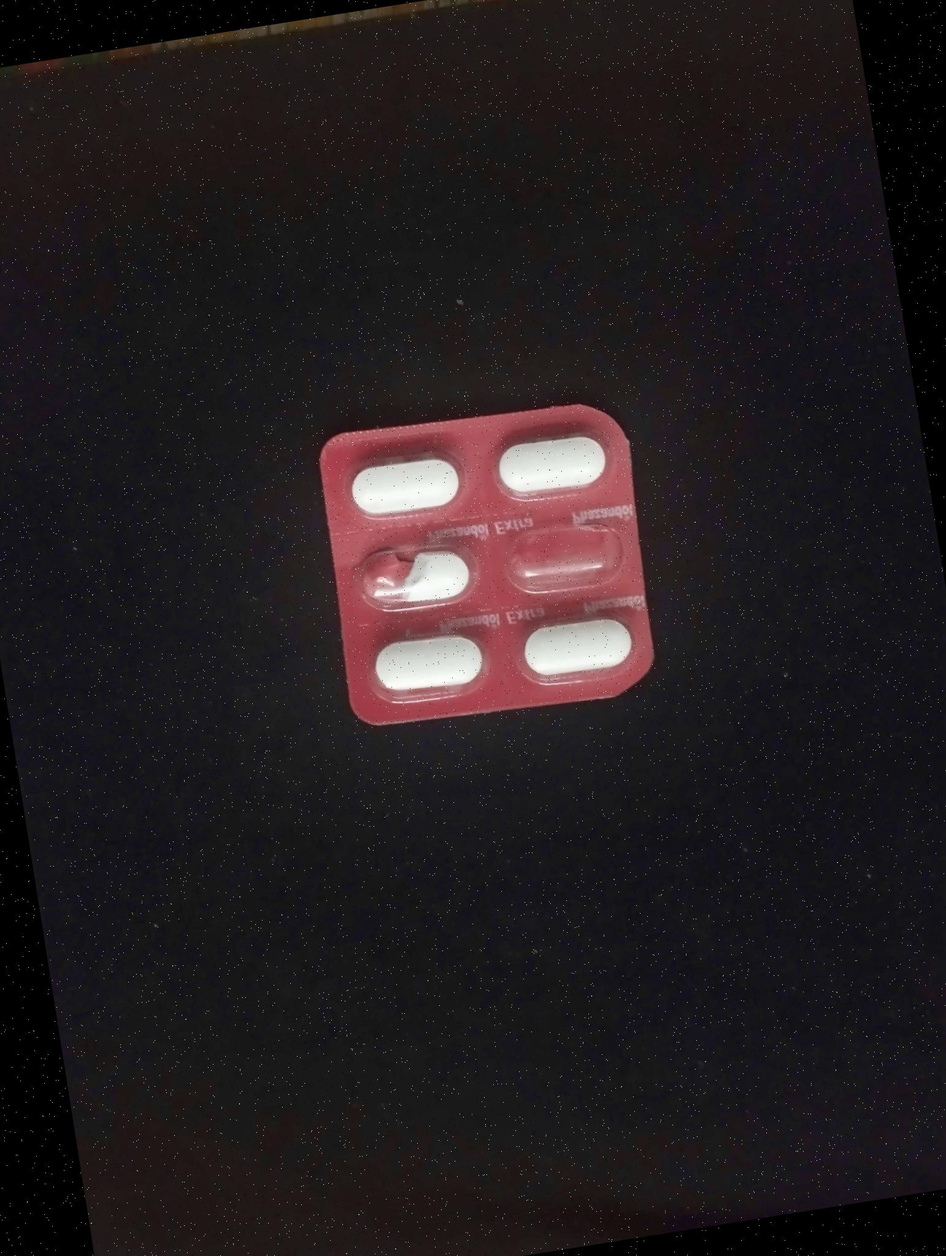Empty: (506, 510, 642, 599)
Full: (507, 597, 658, 687), (478, 414, 621, 508), (335, 440, 471, 531), (369, 621, 498, 714)
Partial: (354, 538, 478, 617)
